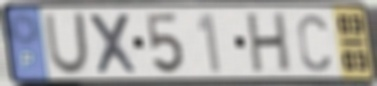1: (196, 12, 221, 74)
5: (143, 12, 186, 75)
C: (295, 12, 333, 73)
H: (245, 10, 293, 76)
U: (42, 11, 91, 77)
X: (86, 12, 141, 76)
